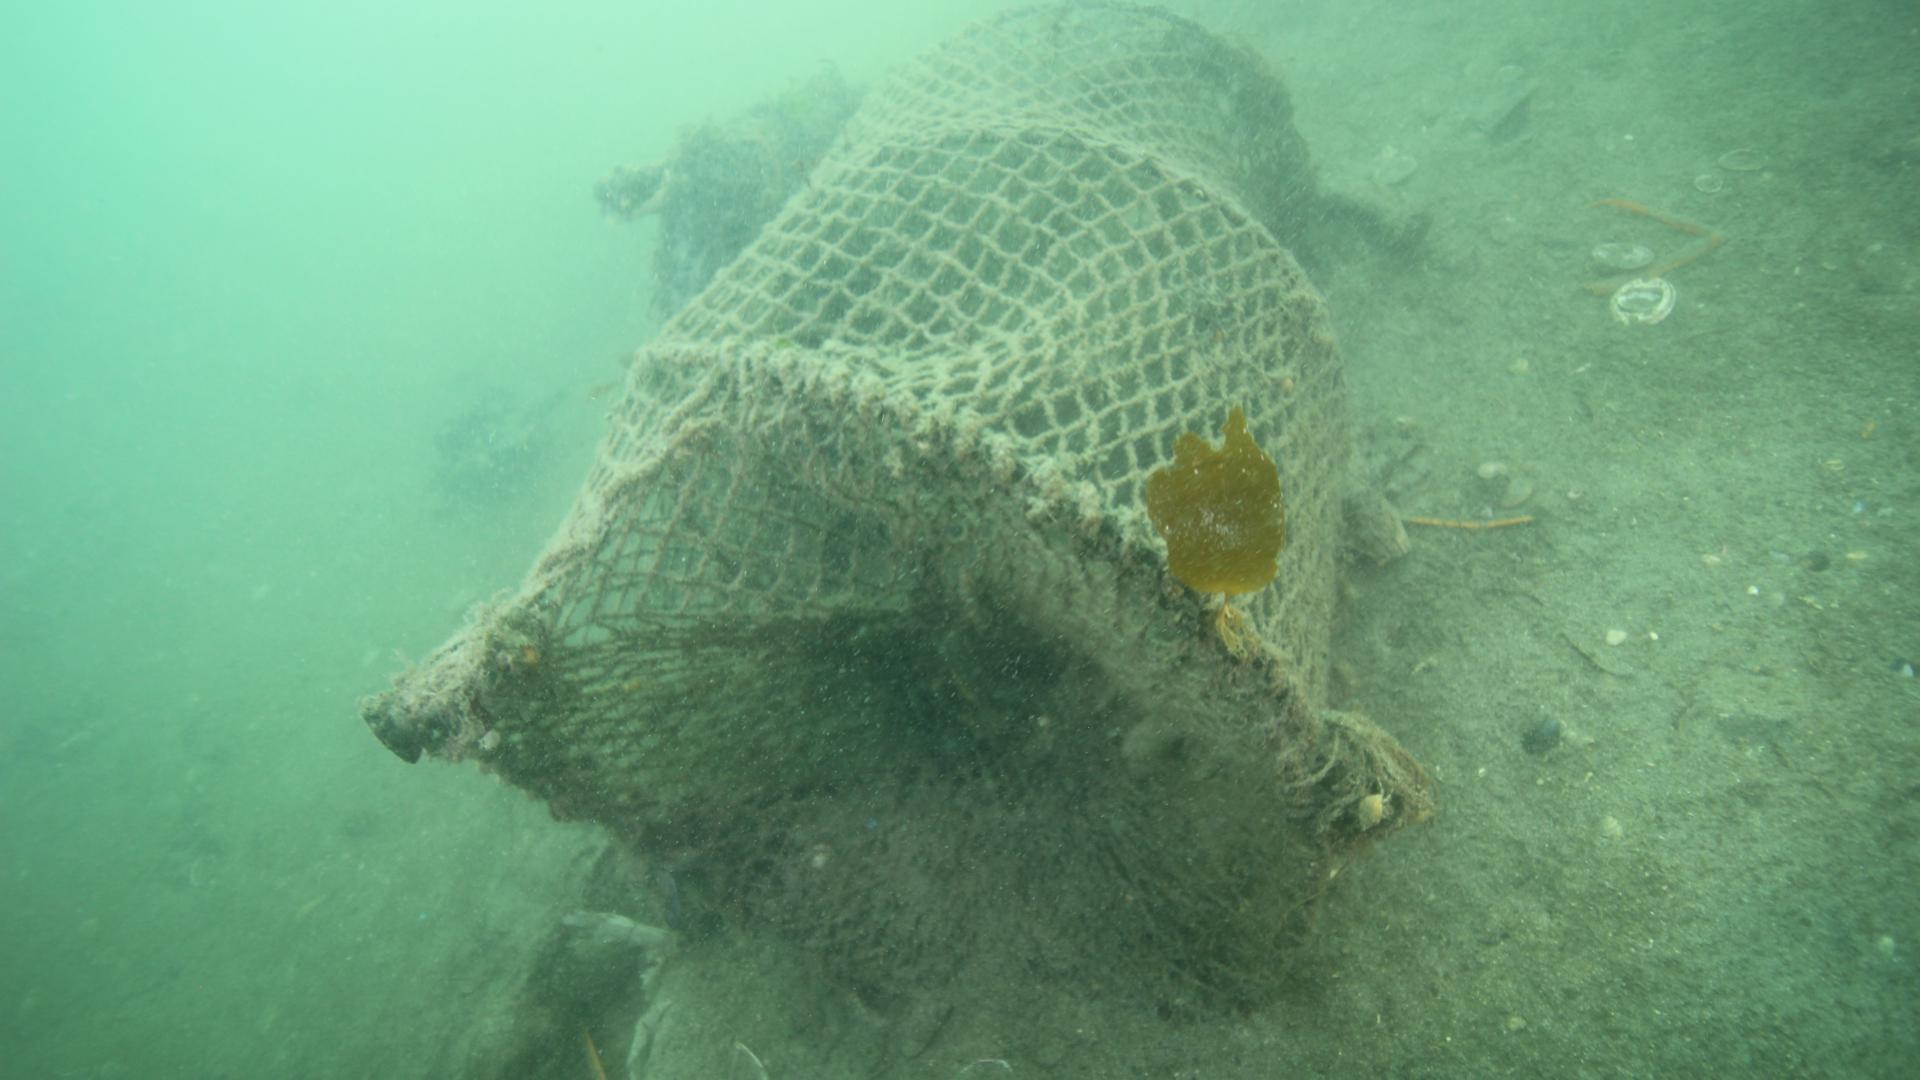spring fish trap: (365, 0, 1364, 1025)
